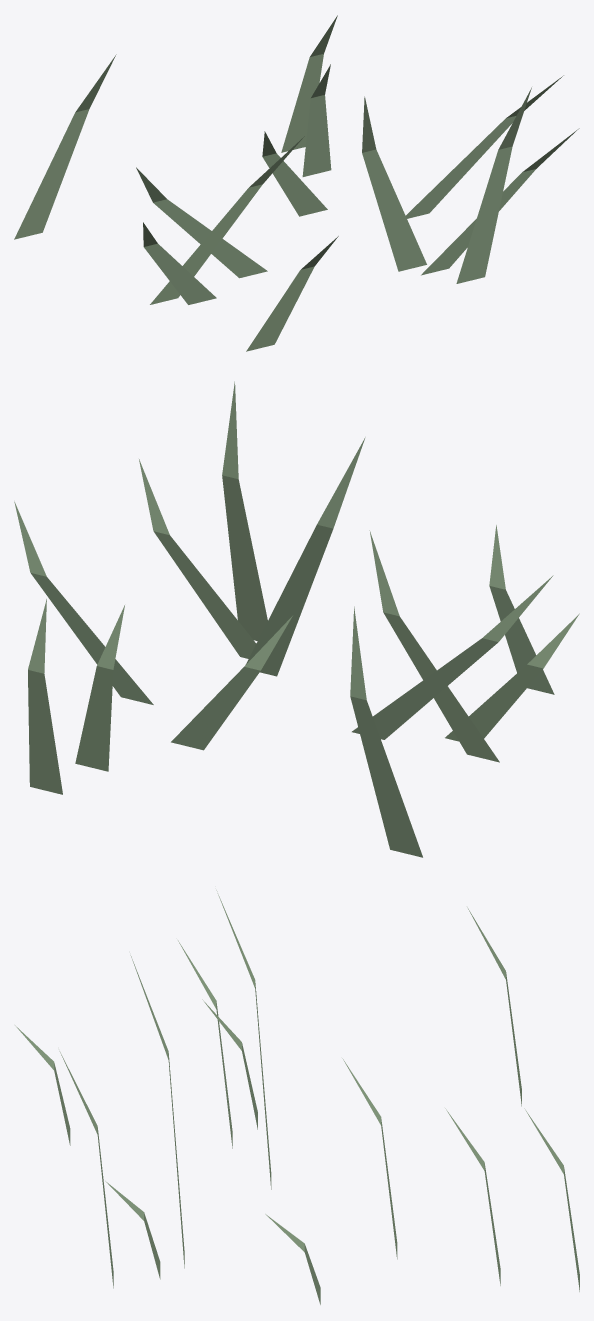
Rendered from short_grass_variant_01.glb.
3 views of the same model, one above another, from view 1: azimuth 30°, elevation 25°; view 2: azimuth 150°, elevation 25°; view 3: azimuth 270°, elevation 25° (orthographic). The views are drawn at different scales.
Visible parts, largest first — view 1: static_leaf_sage; view 2: static_leaf_sage; view 3: static_leaf_sage.
Boxes of the visible parts, x1=… form: static_leaf_sage: x1=14, y1=15, x2=579, y2=351; static_leaf_sage: x1=14, y1=381, x2=579, y2=857; static_leaf_sage: x1=15, y1=890, x2=579, y2=1304.
Bounding box in the file's own units: 0.8557 × 0.3693 × 0.704.
